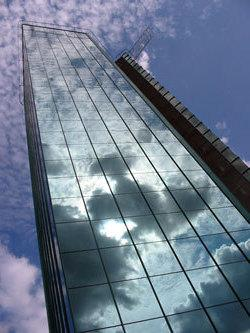building: (18, 19, 250, 333)
